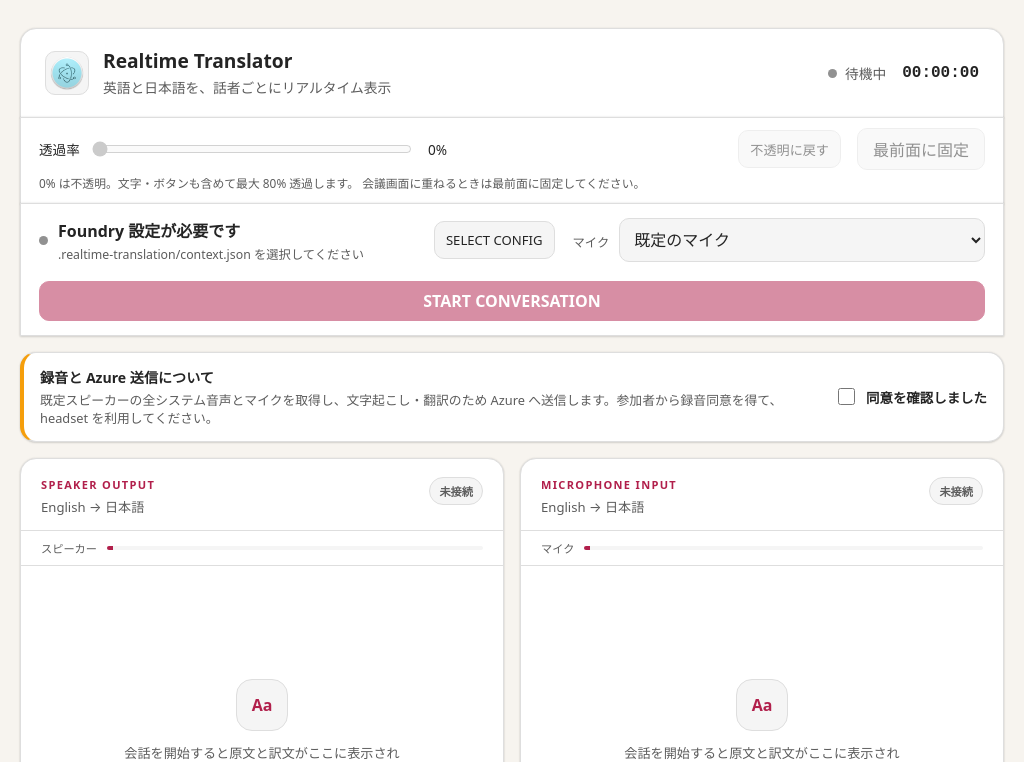
Test case: browser authentication flow › does not capture audio or show SESSION COMPLETE when authentication fails
The width and height of the screenshot is (1024, 762).
Click the checkbox labelled "同意を確認しました": (846, 397) [838,388,855,405]
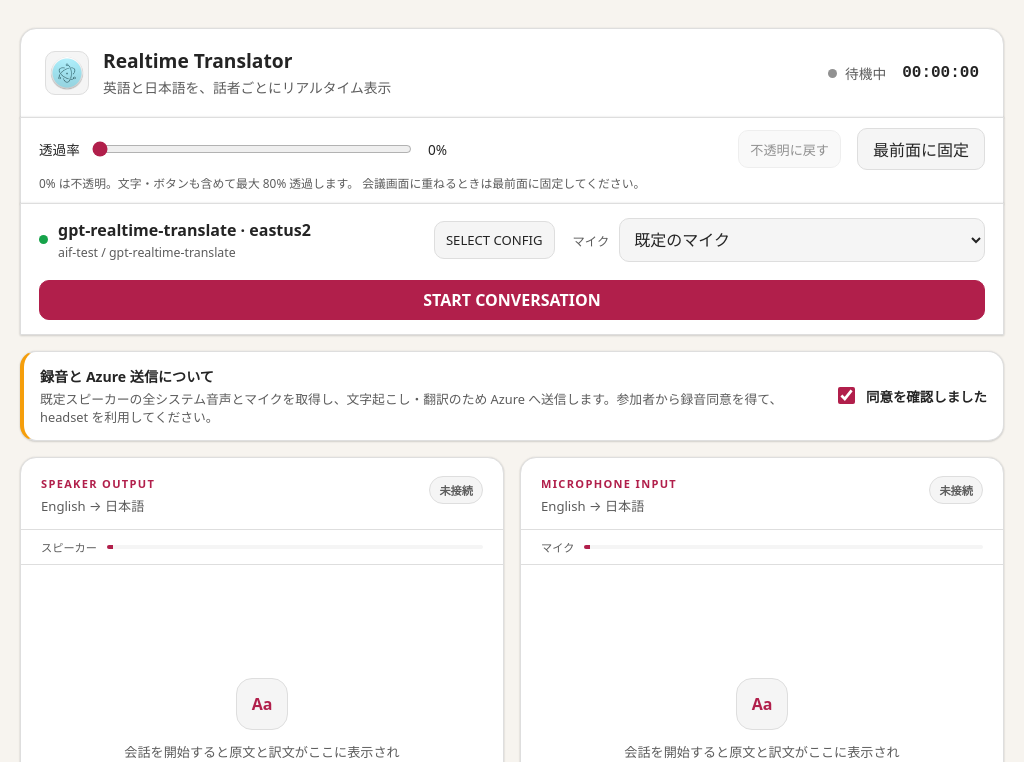
expect the button "START CONVERSATION" is enabled: met
Click the button "START CONVERSATION": (512, 300) [39,280,985,320]
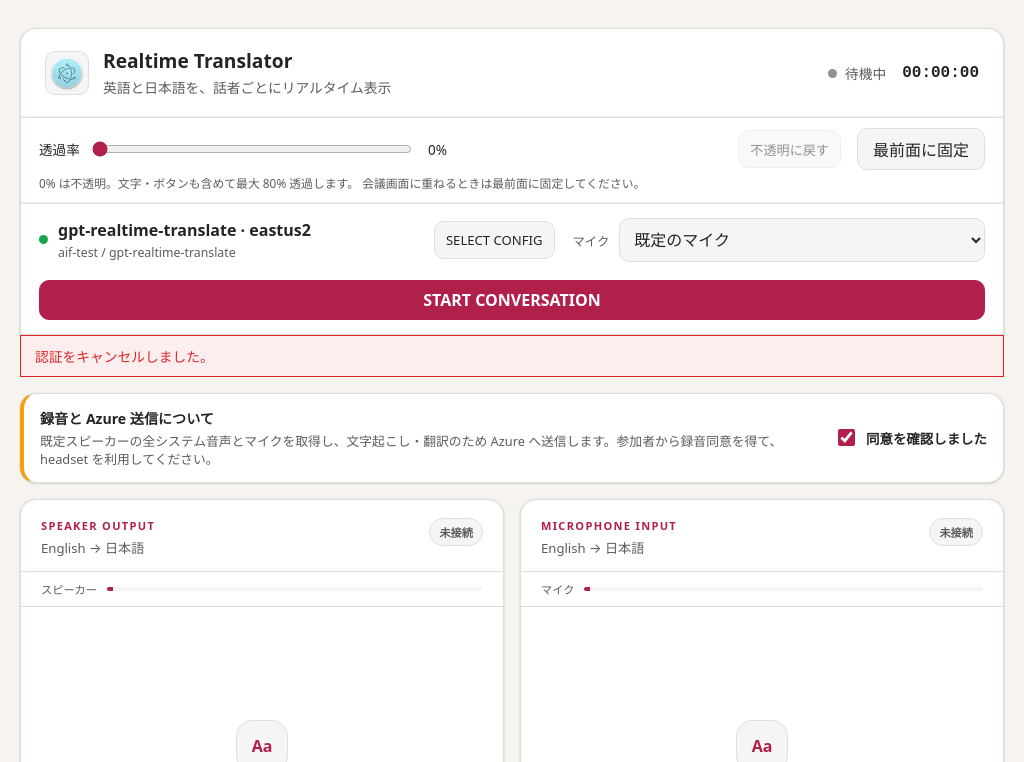
expect the button "START CONVERSATION" is enabled: met, box [39,280,985,320]
expect the text "認証をキャンセルしました。" is shown: met, box [20,335,1004,377]
